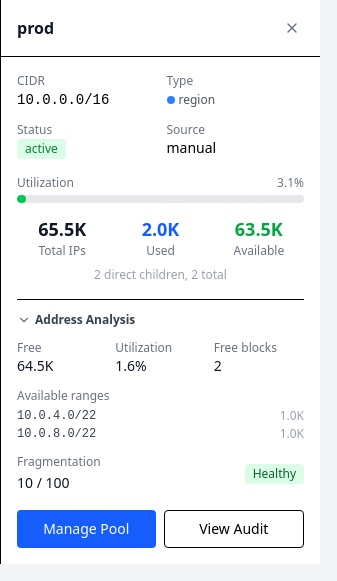
PoolDetailPanel address analysis › collapses and expands without refetching
Check: the number of elements with test id "available-range" is 2, box left=17, top=408, right=96, bottom=424; left=17, top=426, right=96, bottom=442
Check: the element that starts with "Free" is shown, box left=17, top=340, right=304, bottom=494
Click the button "Address Analysis" at (85, 320), box left=17, top=312, right=304, bottom=328
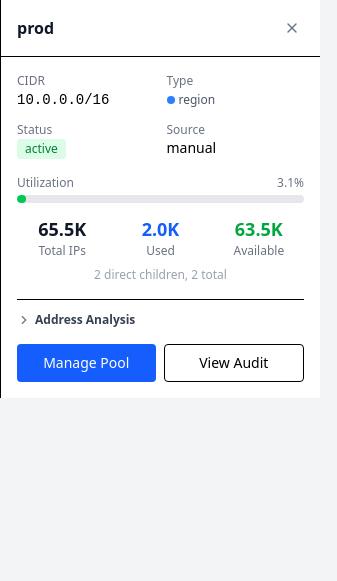
Check: the button "Address Analysis" is collapsed
Check: no elements with test id "available-range" are shown
Check: the text "10 / 100" is gone
Click the button "Address Analysis" at (85, 320), box left=17, top=312, right=304, bottom=328
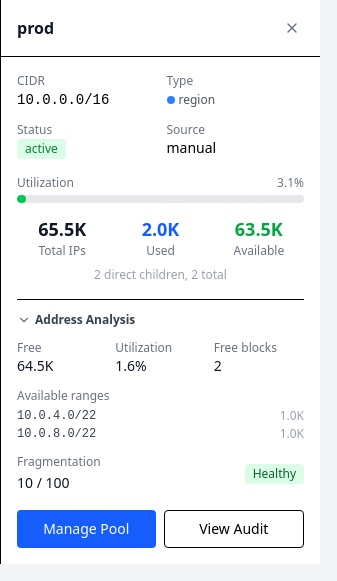
Check: the number of elements with test id "available-range" is 2, box left=17, top=408, right=96, bottom=424; left=17, top=426, right=96, bottom=442
Check: the text "10 / 100" is shown, box left=17, top=473, right=70, bottom=492
